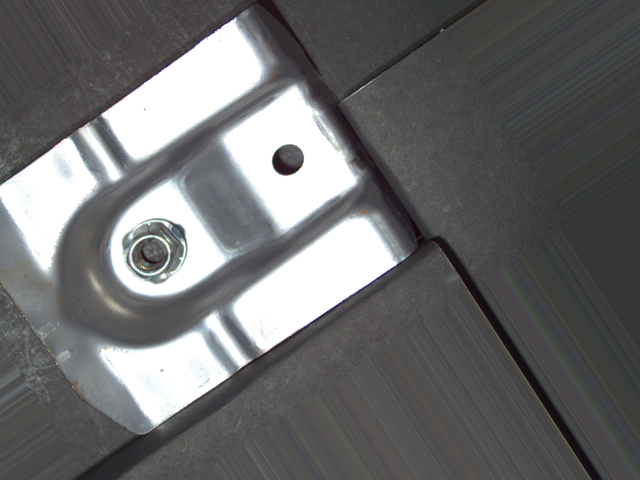good: (119, 215, 194, 285)
